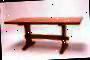Mesa: (5, 14, 84, 56)
